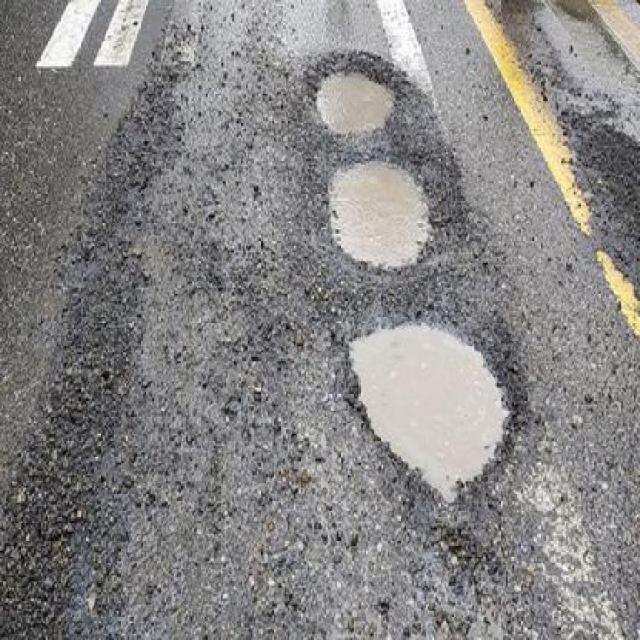Pothole: (337, 297, 525, 508), (322, 145, 436, 273), (311, 54, 403, 135)
